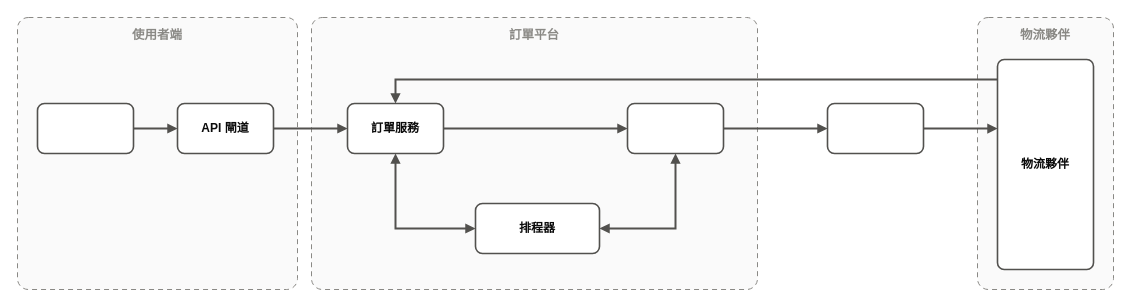
The diagram is 1131 pixels wide and 307 high, and some of its shapes have lost their labels. Each missing label, with the centre of its shape:
"使用者" goes at point 85,128.
"出口閘道" goes at point 875,128.
"訊息佇列" goes at point 675,128.
